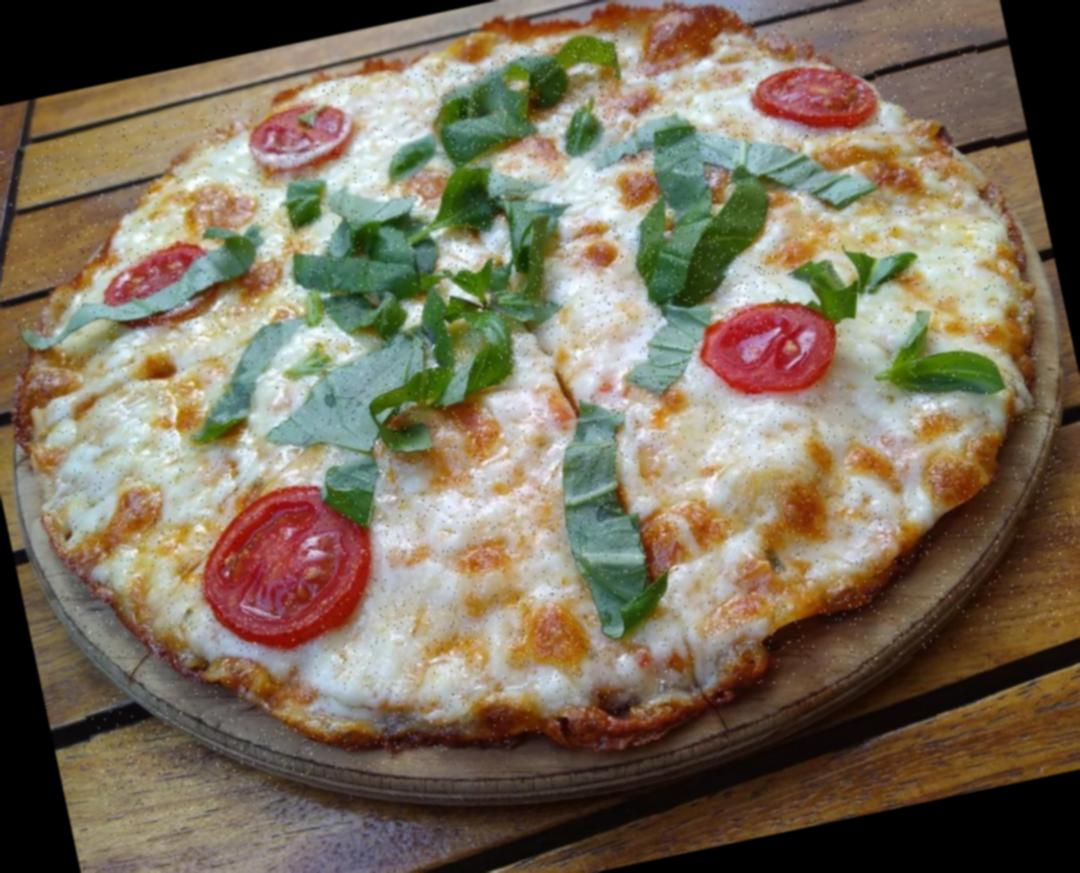Basil: (289, 168, 565, 419), (612, 110, 784, 316), (552, 391, 674, 627), (426, 33, 632, 170), (174, 304, 331, 442)
Pizza: (0, 0, 1080, 827)
Tomatoes: (185, 471, 392, 663), (698, 294, 851, 411), (750, 49, 884, 147), (100, 238, 220, 334), (245, 96, 357, 176)
